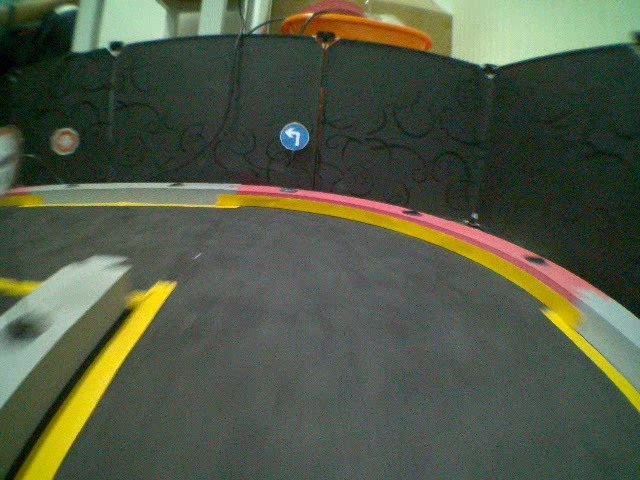Stop: (48, 129, 79, 156)
turn: (279, 121, 310, 153)
